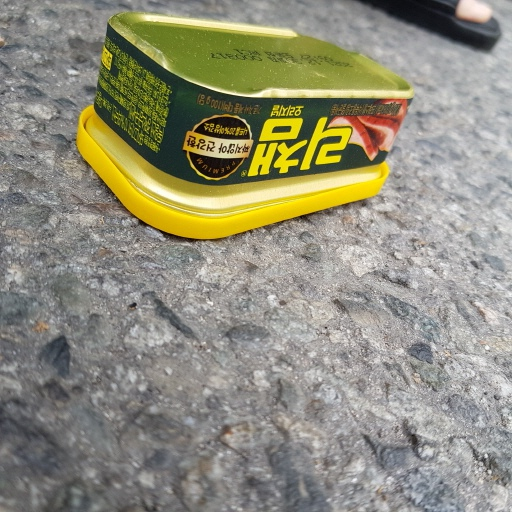Metal_2: (77, 3, 416, 239)
